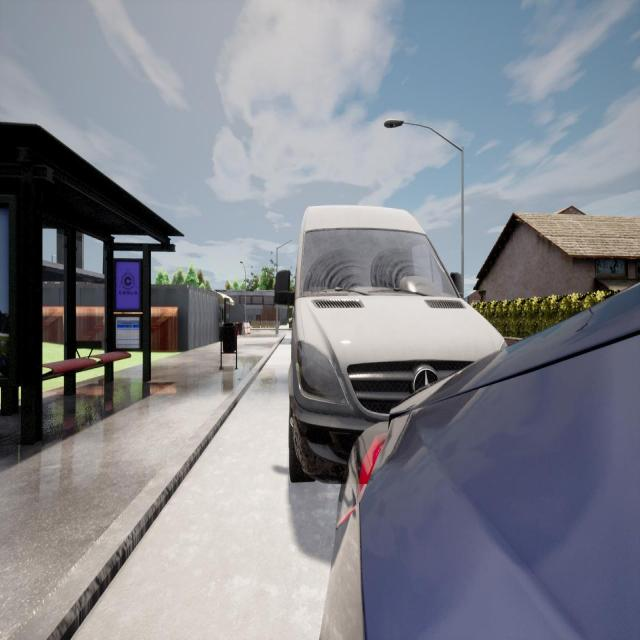Vehicle: (321, 286, 640, 638), (274, 203, 508, 483)
